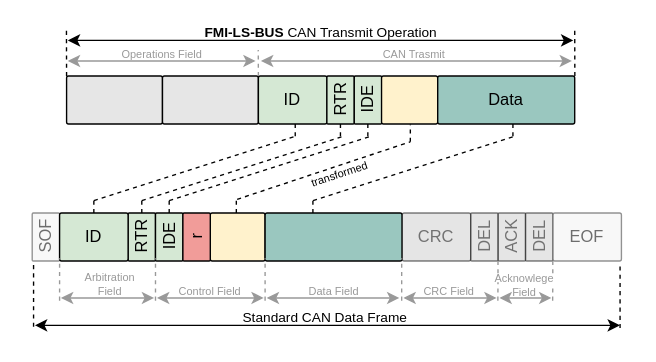
Image size: 656x362. Some labels were removed from this diagram. The centre of each missing label's shape, as x and y in pixels:
"Data Length" goes at point (409, 99).
"DLC" goes at point (237, 236).
"Length" goes at point (209, 99).
"OP Code" goes at point (113, 99).
"PAYLOAD" goes at point (333, 236).
